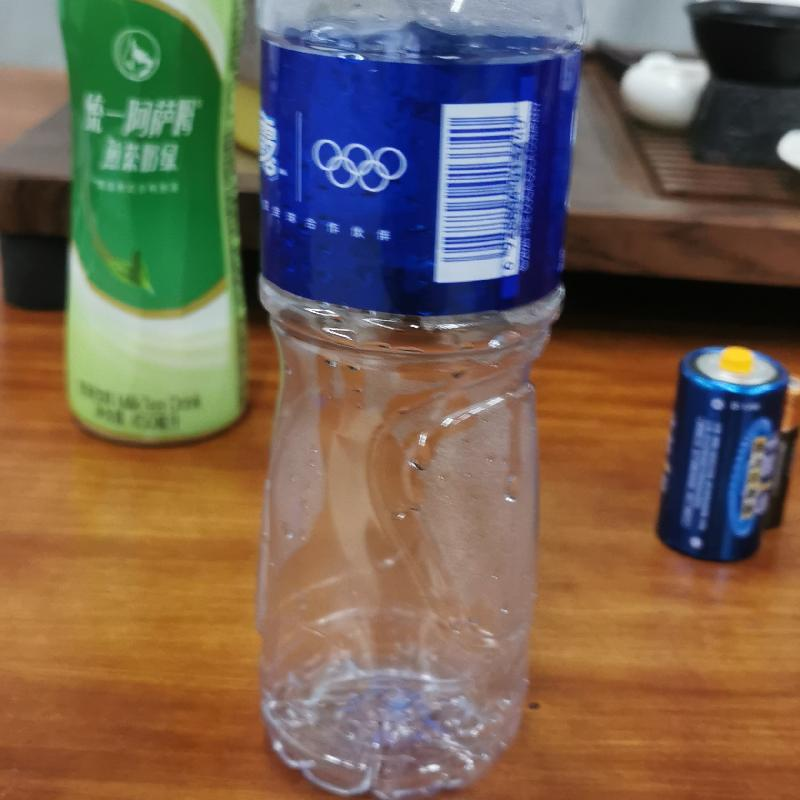bottles: (247, 0, 589, 796)
